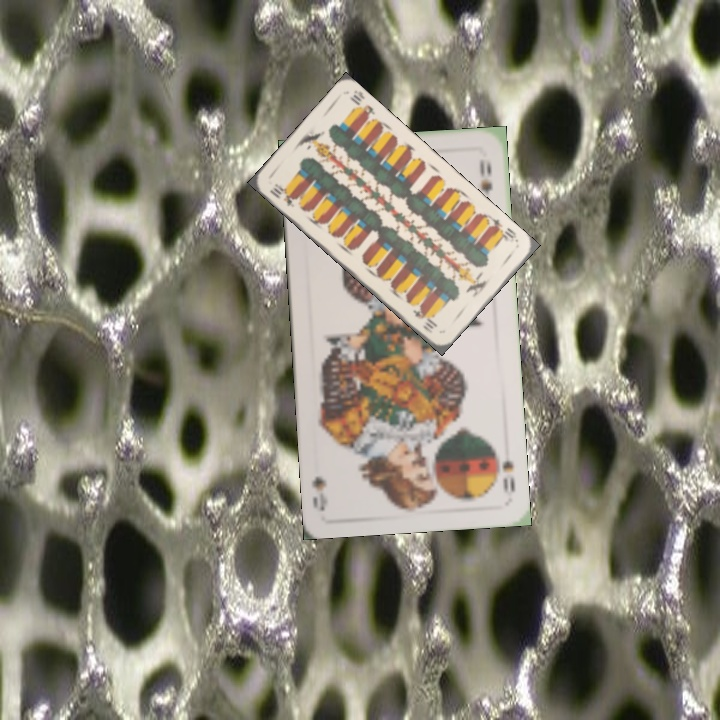E10: (485, 214, 521, 245), (265, 179, 299, 210)
SO: (498, 456, 518, 500)
